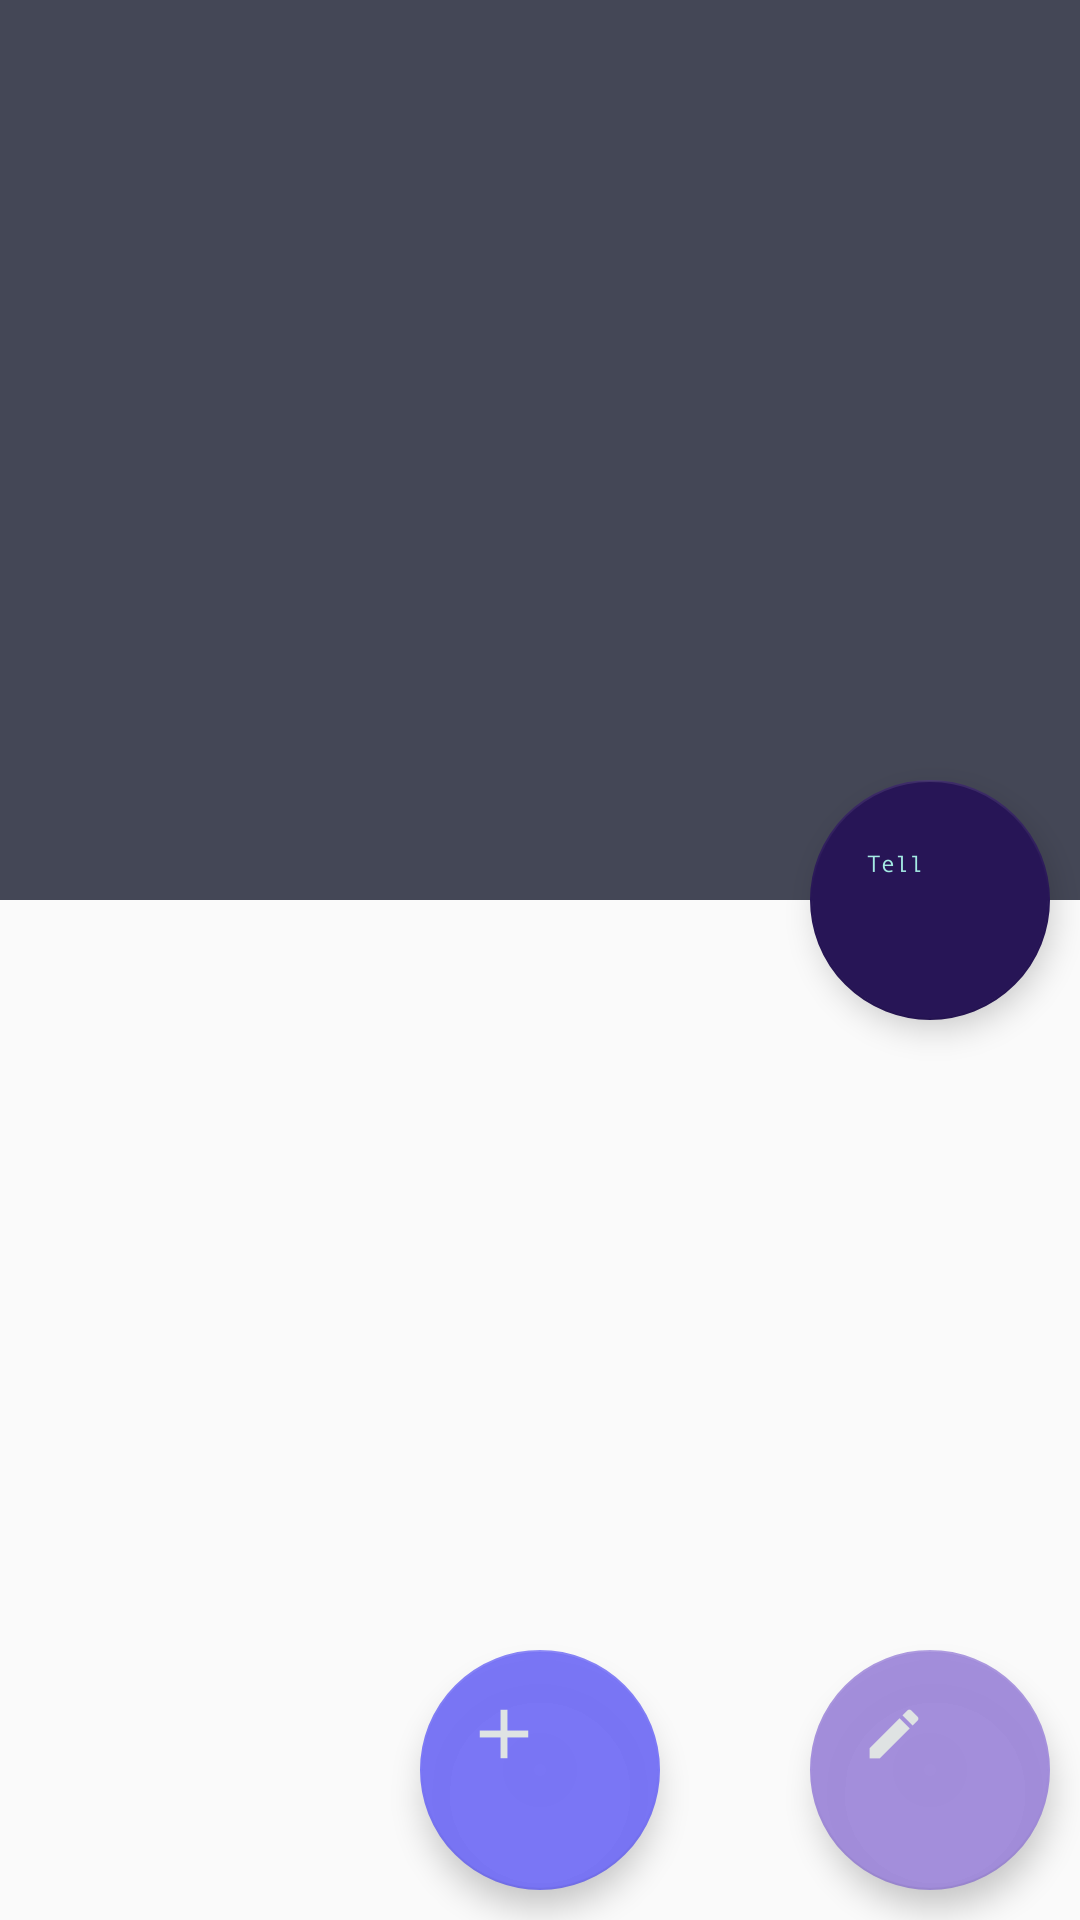

Screen size 1080px×1920px. Icon name, then its center in pixels as point (x, y):
add: point (540, 1770)
pen: point (930, 1770)
